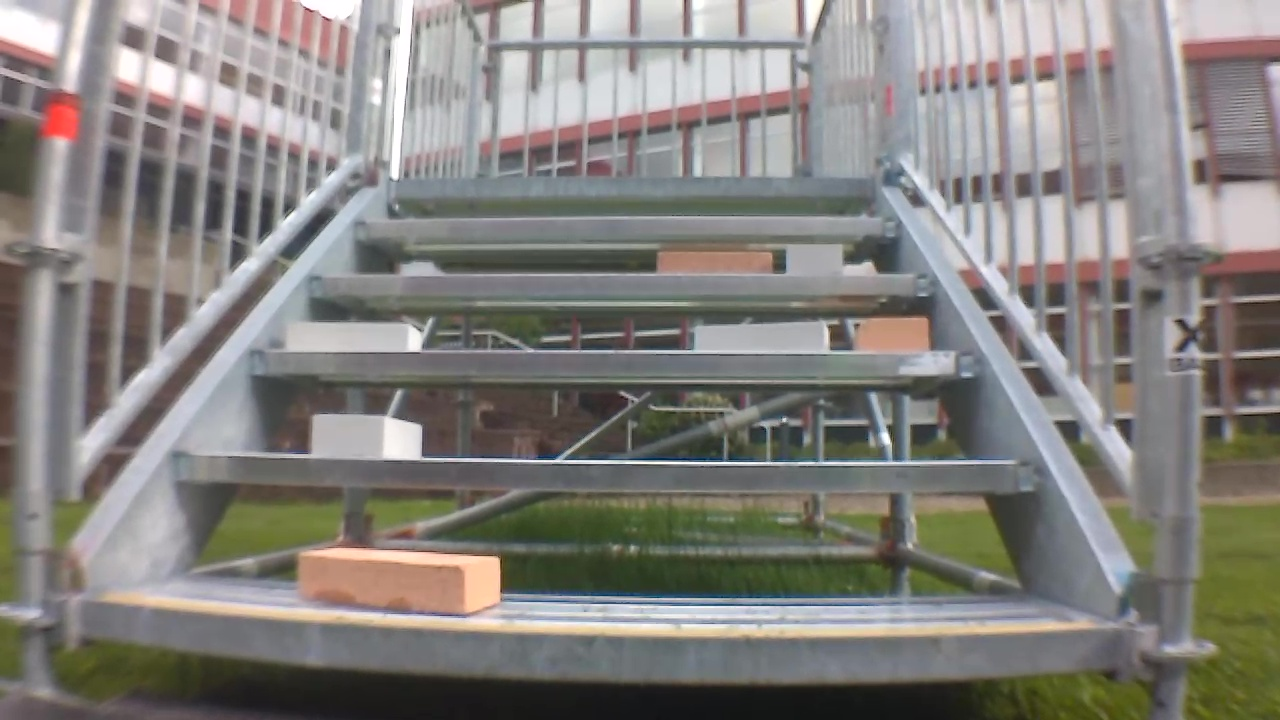brick: (298, 548, 500, 615), (313, 415, 420, 457), (286, 321, 421, 351), (696, 321, 828, 351), (856, 316, 928, 350), (658, 251, 773, 272), (788, 244, 842, 272)
edge: (80, 601, 1117, 682), (178, 452, 1039, 490), (248, 350, 988, 376), (305, 275, 942, 295), (350, 218, 899, 237), (393, 176, 879, 197)
stairs: (11, 3, 1219, 715)
steps: (62, 171, 1131, 697)
